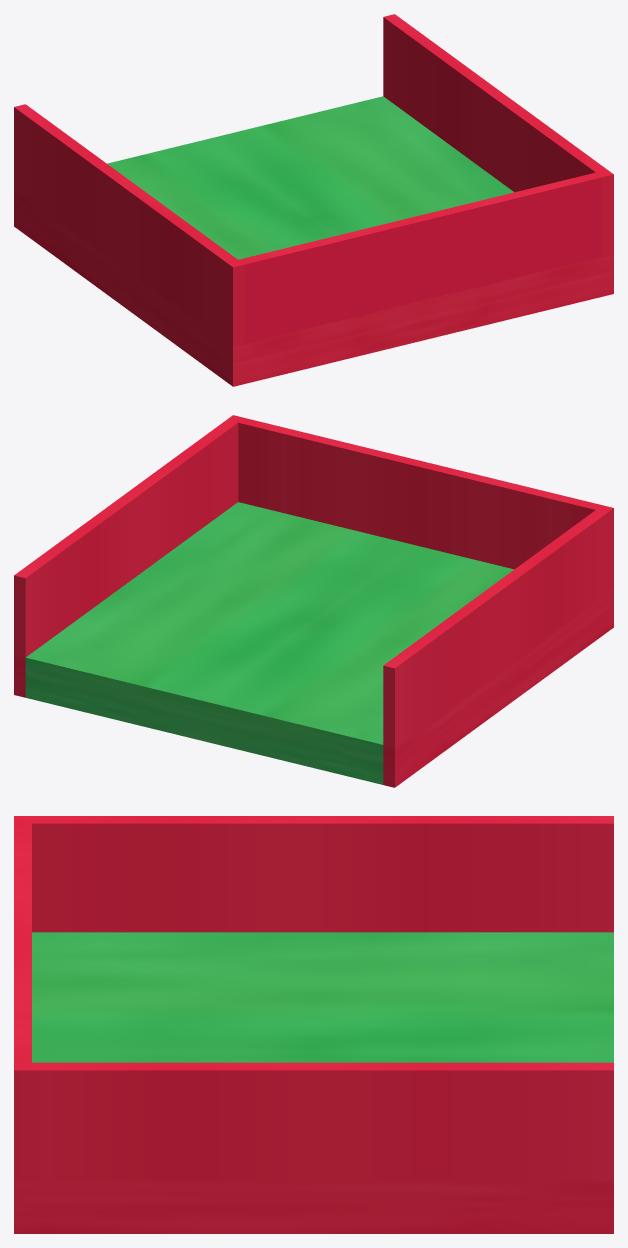
The model's file is Begin_Road.fbx.
3 renders of one model, top to bottom at view 1: azimuth 30°, elevation 25°; view 2: azimuth 150°, elevation 25°; view 3: azimuth 270°, elevation 25°, orthographic. The views are drawn at different scales.
Visible parts, largest first — view 1: Fence, Begin_Road; view 2: Fence, Begin_Road; view 3: Fence, Begin_Road.
Part boxes in pixels (bbox=[...]): Fence: bbox=[14, 14, 613, 386]; Begin_Road: bbox=[107, 96, 513, 259]; Fence: bbox=[14, 415, 613, 787]; Begin_Road: bbox=[25, 502, 514, 784]; Fence: bbox=[14, 816, 613, 1233]; Begin_Road: bbox=[32, 932, 613, 1062].
Bounding box in the file's own units: 100 × 30.07 × 99.98.
